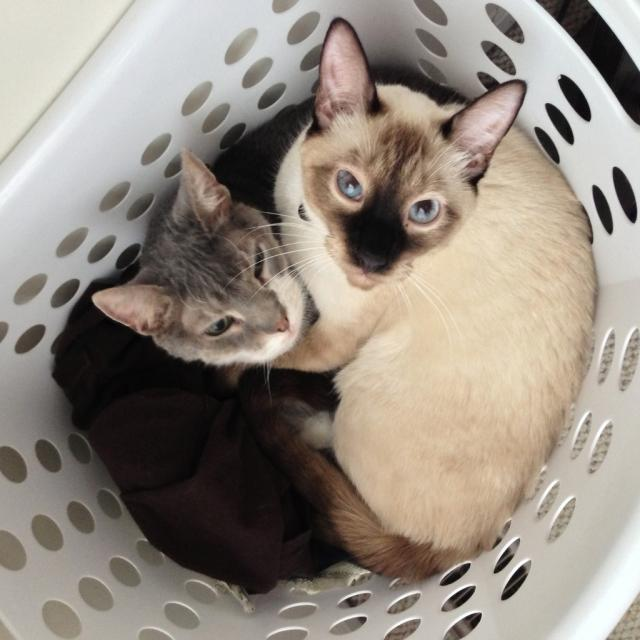Cat: (216, 12, 601, 584), (87, 144, 310, 414)
